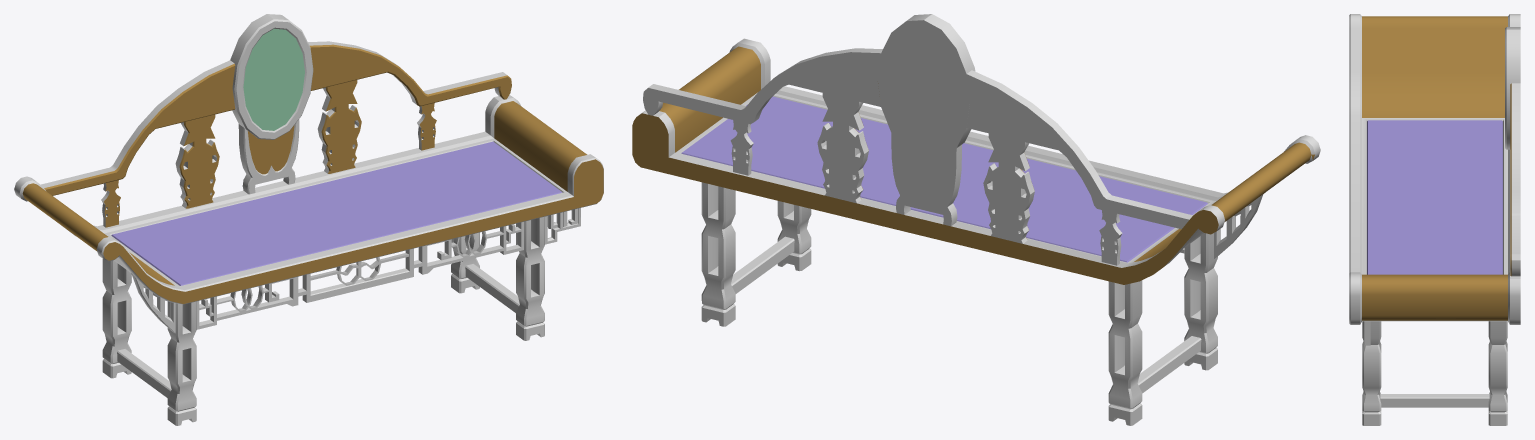
File: ClassicalBed.FBX
The picture shows the model from 3 angles, left to right: view 1: azimuth 30°, elevation 25°; view 2: azimuth 150°, elevation 25°; view 3: azimuth 270°, elevation 25°; orthographic projection. The views are drawn at different scales.
Parts seen in each view (by area): view 1: BDK010; view 2: BDK010; view 3: BDK010.
Boxes of the visible parts, <box> form: BDK010: <box>14,14,603,425</box>; BDK010: <box>632,14,1320,425</box>; BDK010: <box>1349,14,1520,425</box>.
Bounding box in the file's own units: 198 × 60 × 117.
